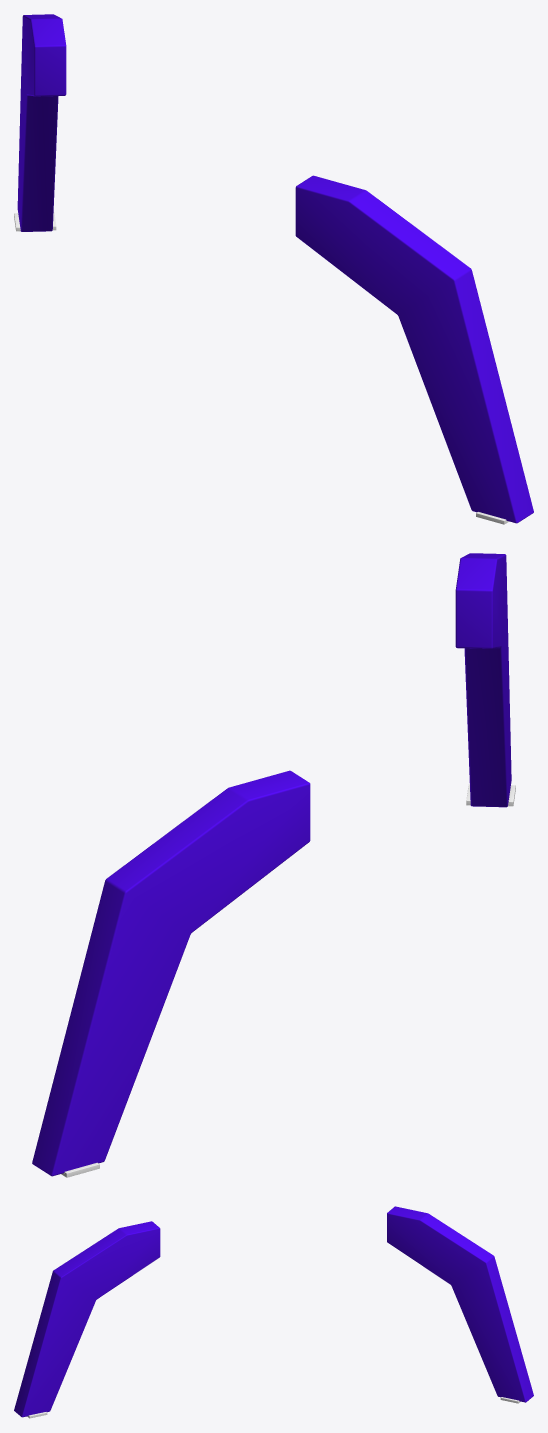
The model's file is levante_legs_sofa.gltf.
3 views of the same model, one above another, from view 1: azimuth 30°, elevation 25°; view 2: azimuth 150°, elevation 25°; view 3: azimuth 270°, elevation 25° (orthographic). The views are drawn at different scales.
Parts seen in each view (by area): view 1: legs_sofa; view 2: legs_sofa; view 3: legs_sofa.
Part boxes in pixels (<box>): legs_sofa: <box>14,14,533,524</box>; legs_sofa: <box>32,553,515,1177</box>; legs_sofa: <box>14,1206,533,1418</box>.
Bounding box in the file's own units: 0.1603 × 0.2378 × 0.6922.
